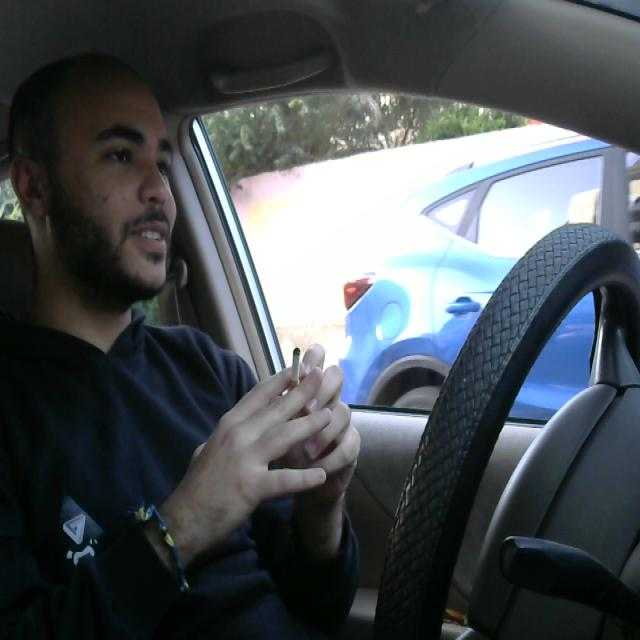smoking: (286, 342, 307, 402)
